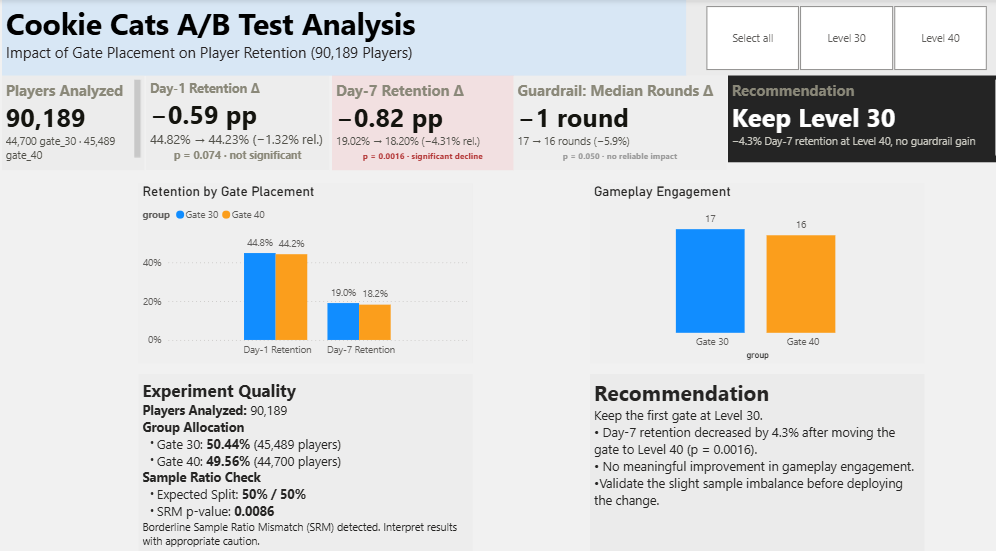

This screenshot's page, from the dashboard's own definition file:
{"tool":"powerbi","page":{"name":"Cookie Cats Dashboard","canvas":[1280,720],"ordinal":0},"visuals":[{"type":"textbox","box":[15.1,0,861.7,96.4],"z":0},{"type":"slicer","fields":{"Values":["cookie_cats.Version Display"]},"box":[876.9,1.9,402.5,94.5],"z":1000},{"type":"textbox","box":[197,96.4,230.6,119.1],"z":2000},{"type":"textbox","box":[15.1,96.4,179.5,119.1],"z":3000},{"type":"textbox","box":[430.9,96.4,228.7,119.1],"z":4000},{"type":"textbox","box":[659.5,96.4,268.3,119.1],"z":5000},{"type":"textbox","box":[929.8,96.4,349.6,109.6],"z":6000},{"type":"clusteredColumnChart","title":"Retention by Gate Placement","fields":{"Category":["retention_chart (2).metric"],"Series":["retention_chart (2).group"],"Y":["Sum(retention_chart (2).retention_rate)"]},"box":[187.1,232.4,421.4,226.8],"z":7000},{"type":"clusteredColumnChart","title":"Gameplay Engagement","fields":{"Category":["guardrail_chart.group"],"Y":["Sum(guardrail_chart.median_rounds)"]},"box":[755.9,232.4,421.4,226.8],"z":8000},{"type":"textbox","box":[755.9,472.4,421.4,226.8],"z":9000},{"type":"textbox","box":[187.1,472.4,421.4,226.8],"z":10000}]}

Visuals, with their boxes in screenshot pixels (x1, y1, x2, y2), scaled from the page's 1280x720 canvas onto the 996x551 screenshot:
textbox: x1=12, y1=0, x2=682, y2=74
slicer - cookie_cats.Version Display: x1=682, y1=1, x2=995, y2=74
textbox: x1=153, y1=74, x2=333, y2=165
textbox: x1=12, y1=74, x2=151, y2=165
textbox: x1=335, y1=74, x2=513, y2=165
textbox: x1=513, y1=74, x2=722, y2=165
textbox: x1=724, y1=74, x2=995, y2=158
"Retention by Gate Placement" clusteredColumnChart: x1=146, y1=178, x2=473, y2=351
"Gameplay Engagement" clusteredColumnChart: x1=588, y1=178, x2=916, y2=351
textbox: x1=588, y1=362, x2=916, y2=535
textbox: x1=146, y1=362, x2=473, y2=535
